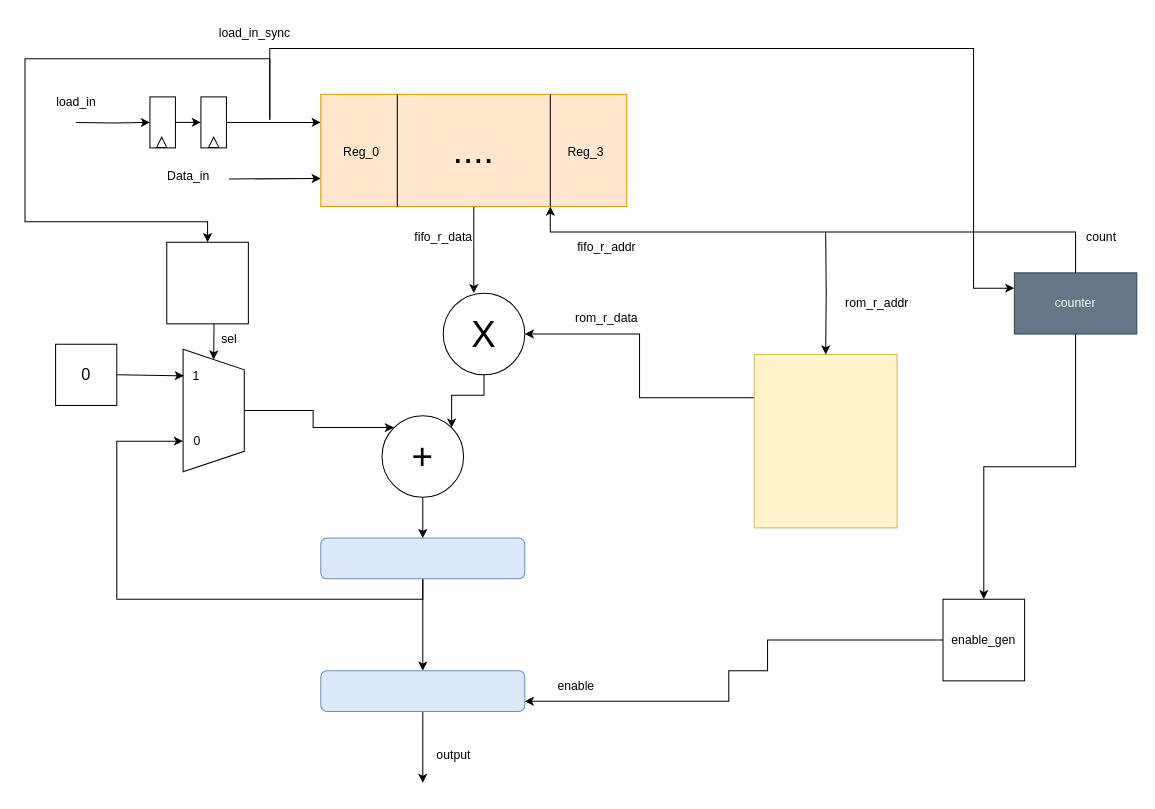
This 1155x809 diagram has some shape labels left out. Here are the shapes that lost their labels. From the top down, the box of each, then its label:
(166, 241, 248, 324): sel_gen
(753, 353, 897, 528): Coeff memory ROM
(320, 537, 525, 579): Accumulator (Reg)
(320, 670, 525, 711): Output (Reg)
